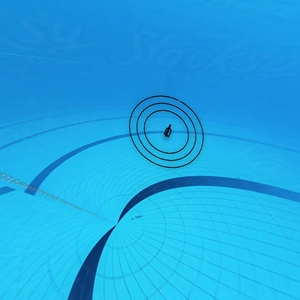circle: (124, 91, 206, 173)
submarine: (160, 122, 175, 140)
